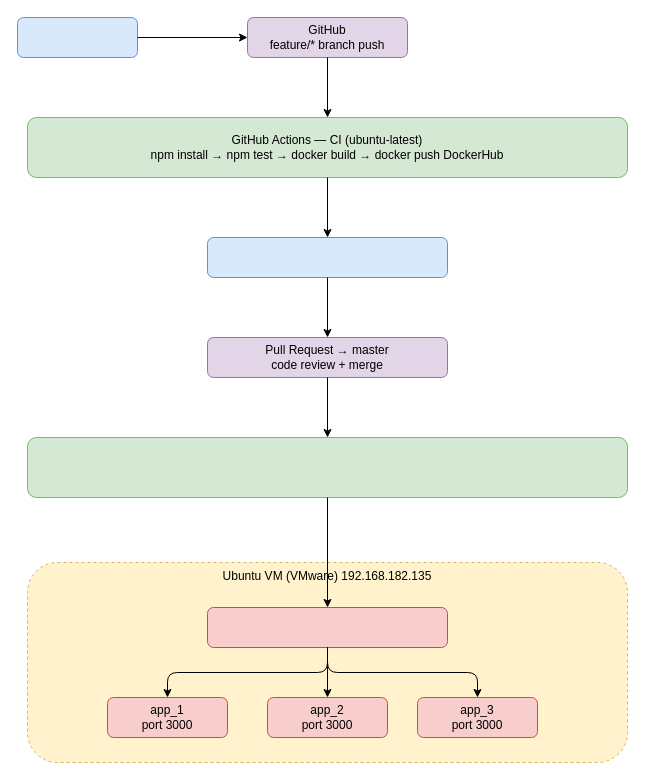
Image size: 645x780. Some labels were removed from this diagram. Here are the shapes that lost their labels. From the top down, the centre of each, then its label:
the point at 77,37: Developer
the point at 327,257: DockerHub Registry dohuynhan2408/goldenowl-app:latest
the point at 327,467: GitHub Actions — CD (self-hosted runner) docker-compose pull → up --scale app=3
the point at 327,627: Nginx — Load Balancer port 80
